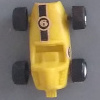amarillo_norte: (13, 2, 87, 97)
